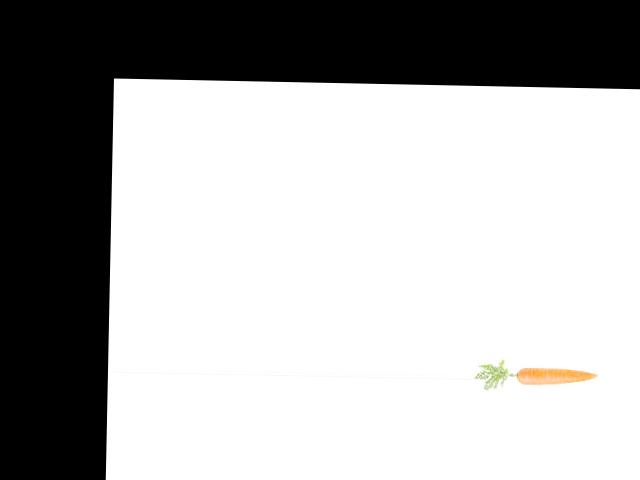carrot: (514, 364, 601, 388)
